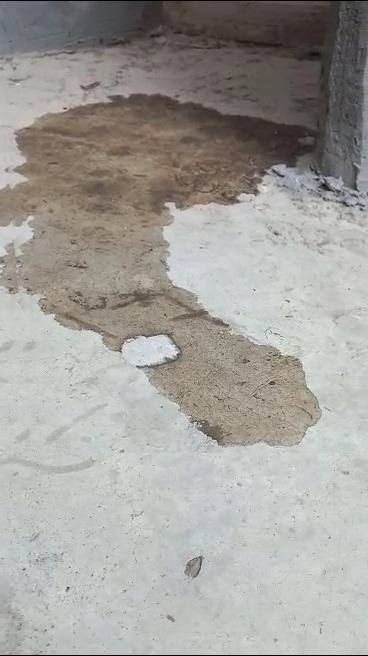water accumulation: (0, 89, 325, 447)
